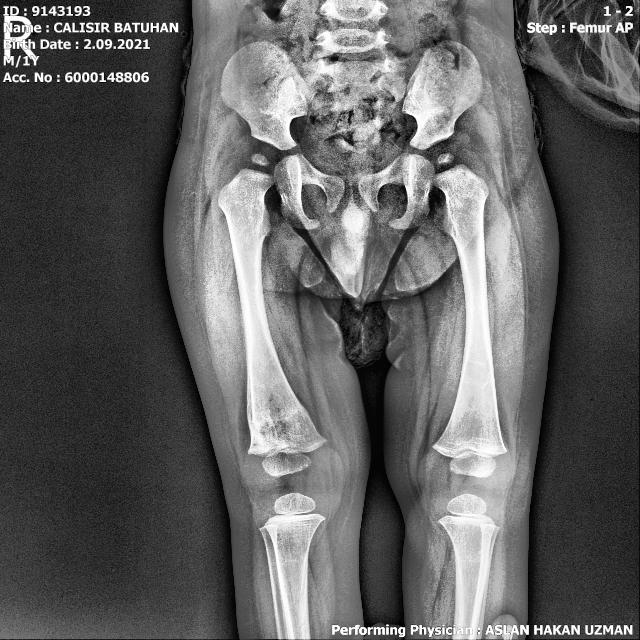Fracture: (246, 404, 312, 428)
